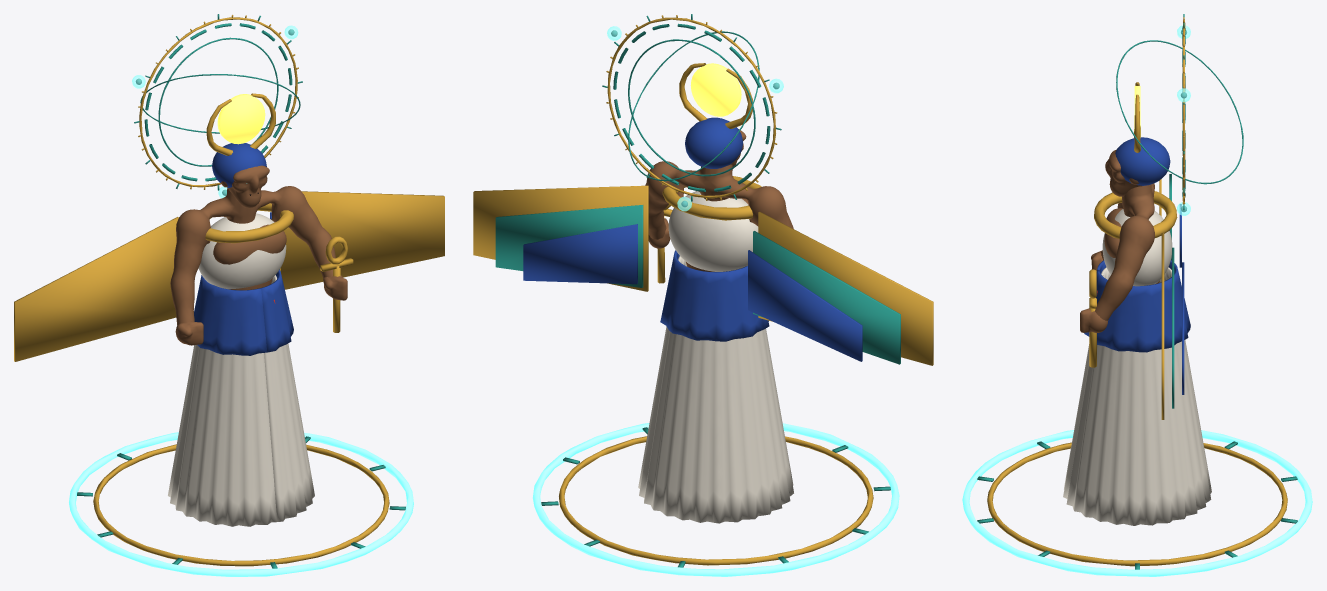
File: isis.glb
The picture shows the model from 3 angles, left to right: view 1: azimuth 30°, elevation 25°; view 2: azimuth 150°, elevation 25°; view 3: azimuth 270°, elevation 25°; orthographic projection. The views are drawn at different scales.
Visible parts, largest first — view 1: gold, white, bronze_skin, lapis, ether, turq, sun.001; view 2: white, gold, lapis, turq, ether, bronze_skin, sun.001; view 3: white, lapis, gold, bronze_skin, ether, turq, ether_veil.
Part boxes in pixels (x1,y1,x2,y2): gold: [14, 15, 444, 566]; white: [168, 213, 314, 526]; bronze_skin: [170, 165, 347, 345]; lapis: [194, 143, 293, 355]; ether: [69, 183, 413, 576]; turq: [77, 14, 405, 568]; sun.001: [217, 94, 265, 144]; white: [638, 191, 793, 523]; gold: [473, 15, 933, 565]; lapis: [523, 117, 862, 361]; turq: [495, 14, 900, 567]; ether: [532, 423, 899, 576]; bronze_skin: [645, 129, 793, 271]; sun.001: [690, 63, 741, 116]; white: [1063, 209, 1211, 525]; lapis: [1084, 137, 1190, 394]; gold: [987, 17, 1287, 566]; bronze_skin: [1080, 149, 1159, 332]; ether: [962, 430, 1312, 576]; turq: [977, 14, 1297, 569]; ether_veil: [1177, 25, 1190, 215].
Bounding box in the file's own units: 3.25 × 3.42 × 2.26.
